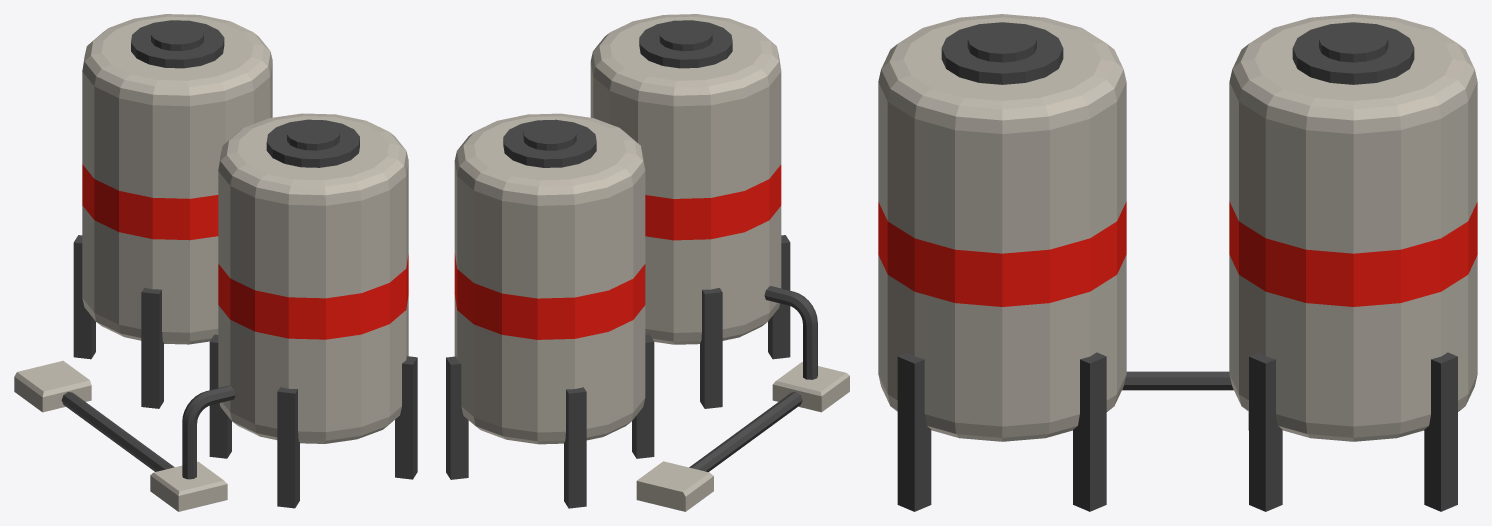
The model's file is 06 Filter_tank.FBX.glb.
The picture shows the model from 3 angles, left to right: view 1: azimuth 30°, elevation 25°; view 2: azimuth 150°, elevation 25°; view 3: azimuth 270°, elevation 25°; orthographic projection. The views are drawn at different scales.
Parts seen in each view (by area): view 1: Cylinder001.2; view 2: Cylinder001.2; view 3: Cylinder001.2.
Part boxes in pixels (x1=…): Cylinder001.2: x1=14, y1=14, x2=417, y2=511; Cylinder001.2: x1=446, y1=14, x2=849, y2=511; Cylinder001.2: x1=878, y1=14, x2=1477, y2=511.
Size of the model in its own units: 1397 by 1957 by 2415.
